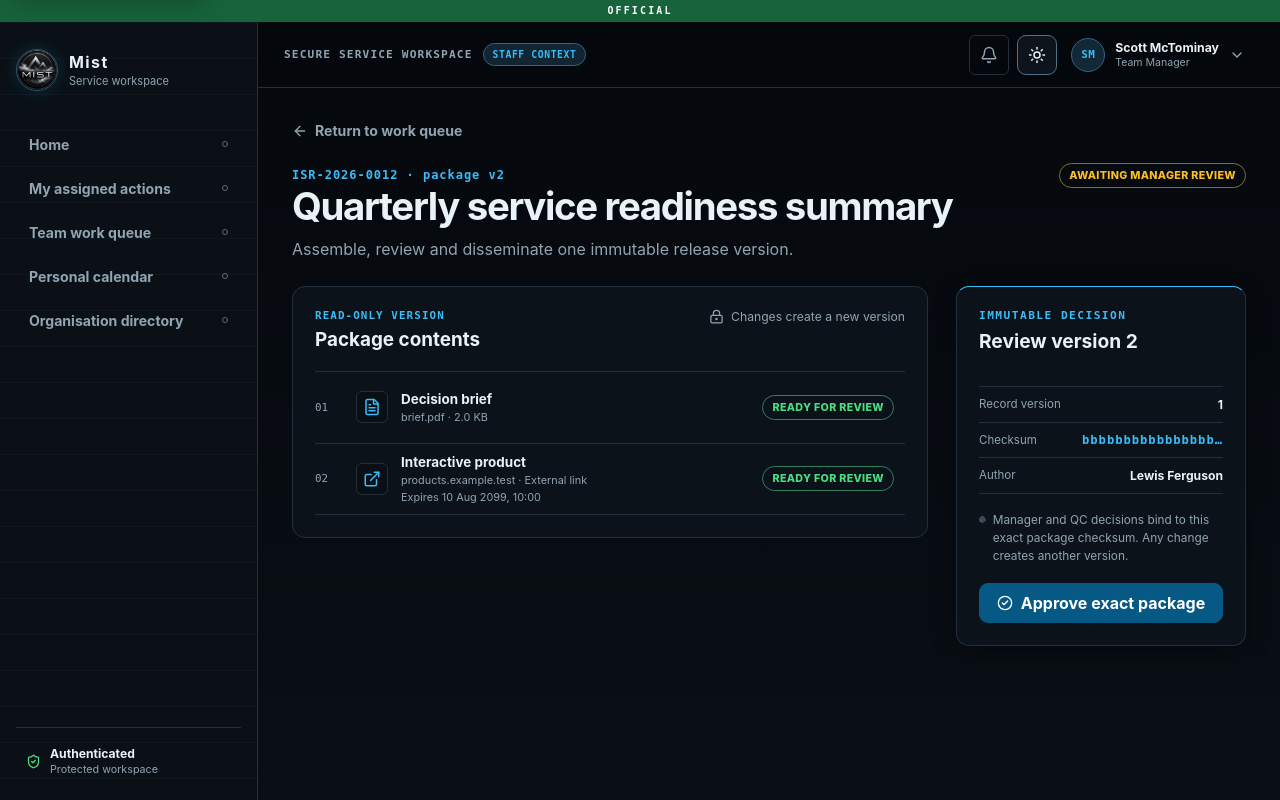
Test: managed product authoring journey › records the DELIVERY_TEAM_LEAD exact-version decision
The width and height of the screenshot is (1280, 800).
Click the button "Approve exact package" at (1101, 603), box 979,583 -> 1223,623
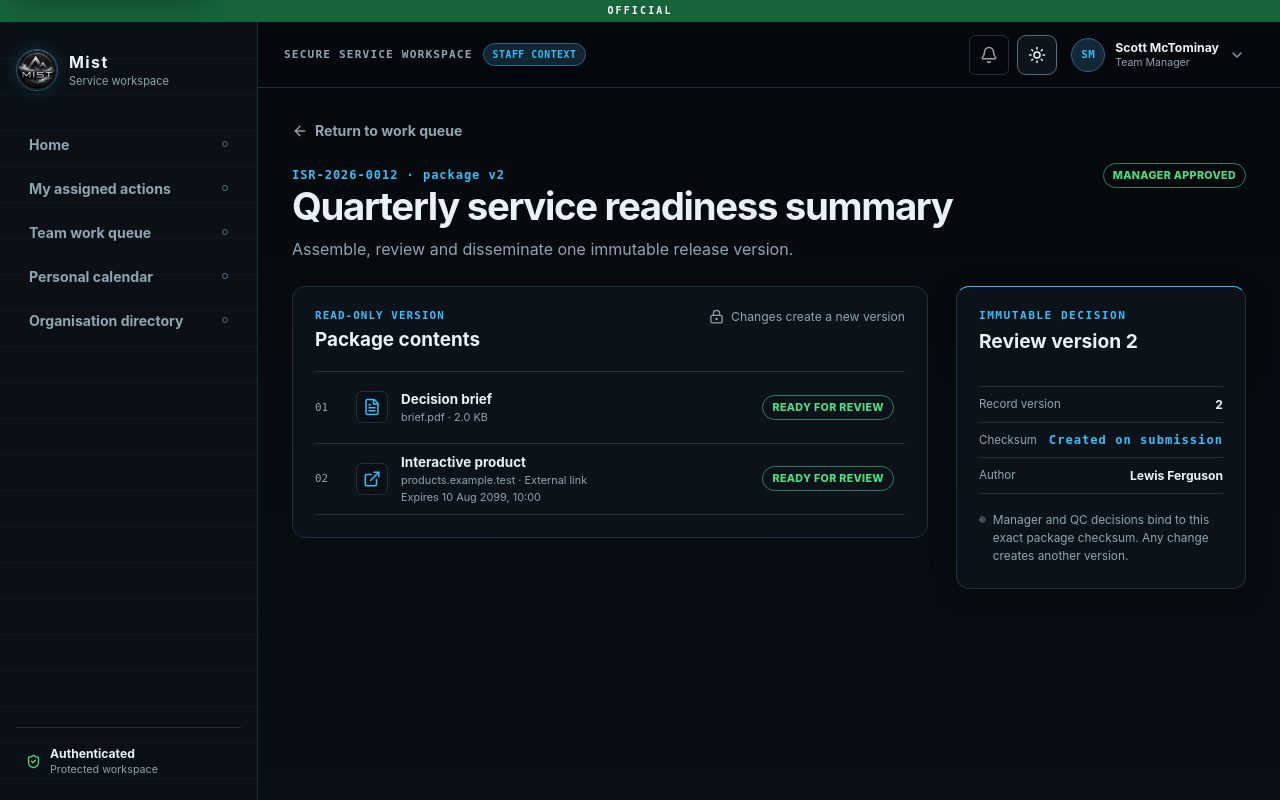
Check: the text "Manager approved" is shown, box 1103,163 -> 1246,188
